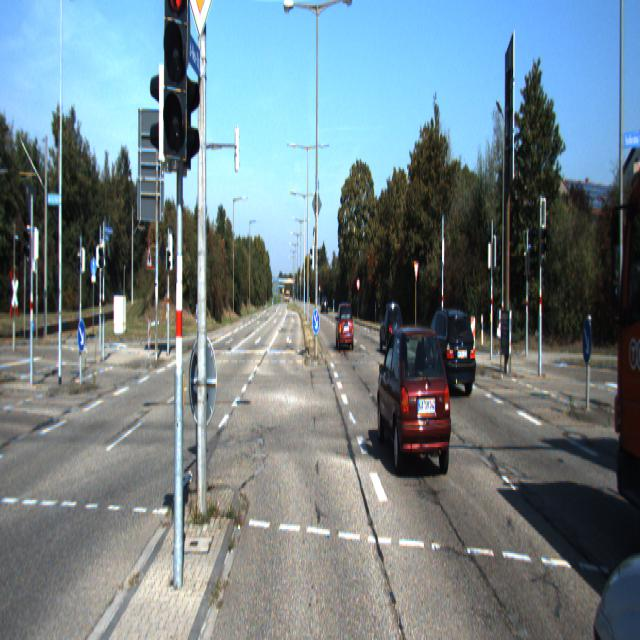Car: (593, 0, 640, 577), (586, 350, 639, 638), (376, 319, 453, 485), (419, 306, 477, 400), (379, 301, 405, 356), (335, 302, 354, 352)
